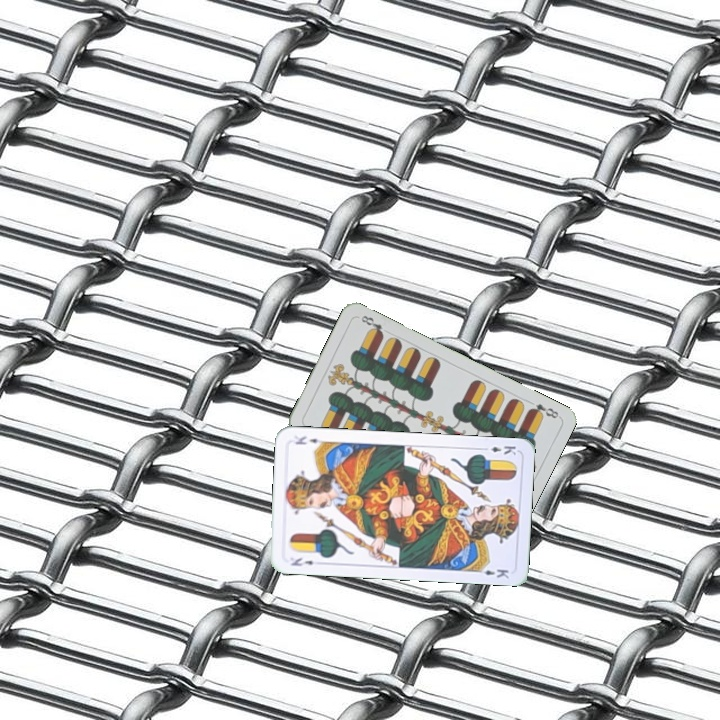E8: (525, 399, 561, 421)
EK: (478, 442, 519, 457), (287, 553, 316, 569)
